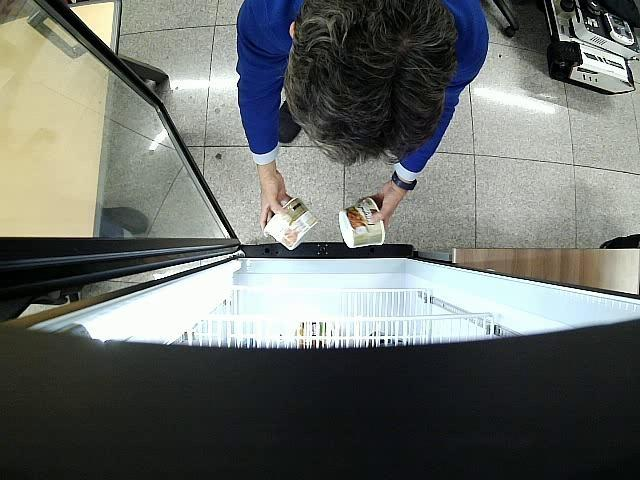03_chapagetti_L: (265, 198, 318, 250), (338, 198, 386, 248)
